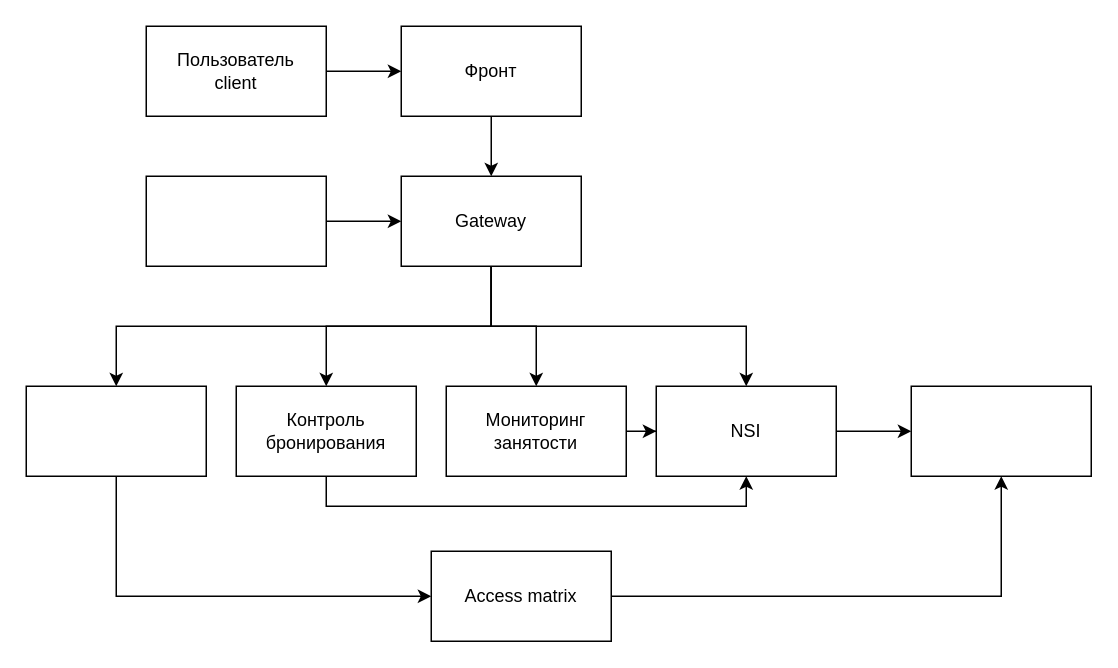
The diagram is 1118 pixels wide and 668 high, and some of its shapes have lost their labels. Each missing label, with the box of its shape:
БД: (910, 385, 1091, 476)
Приложиние client: (145, 175, 326, 266)
Управление пользователями: (25, 385, 206, 476)
